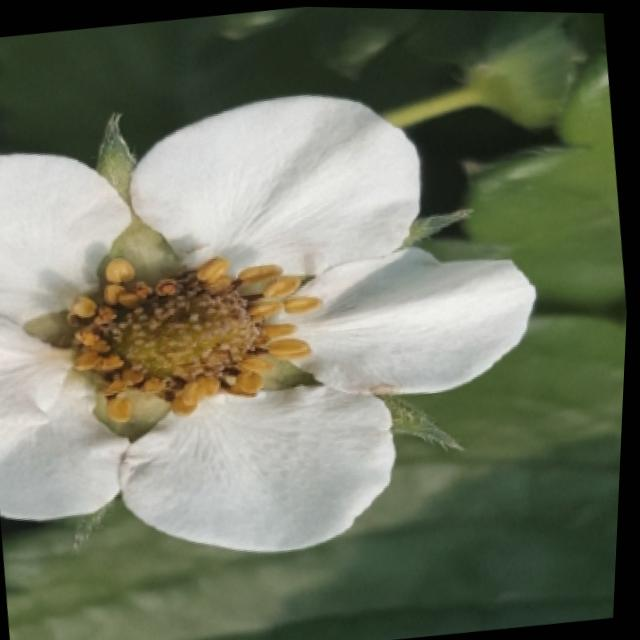Blossom Blight: (60, 250, 326, 429)
